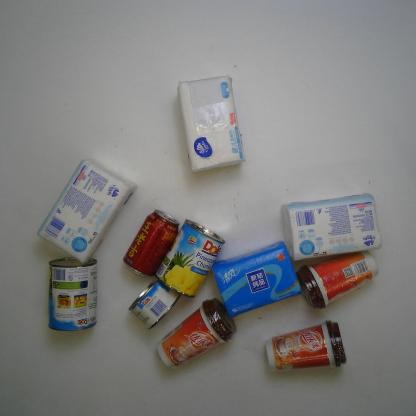Canned Food: (153, 217, 226, 300), (45, 258, 99, 333), (129, 281, 179, 329)
Drink: (121, 206, 182, 282)
Instant Drink: (154, 295, 240, 373), (293, 244, 382, 314), (267, 318, 349, 372)
Tissue: (34, 155, 140, 266), (175, 72, 250, 177), (281, 189, 384, 265), (210, 239, 301, 317)
